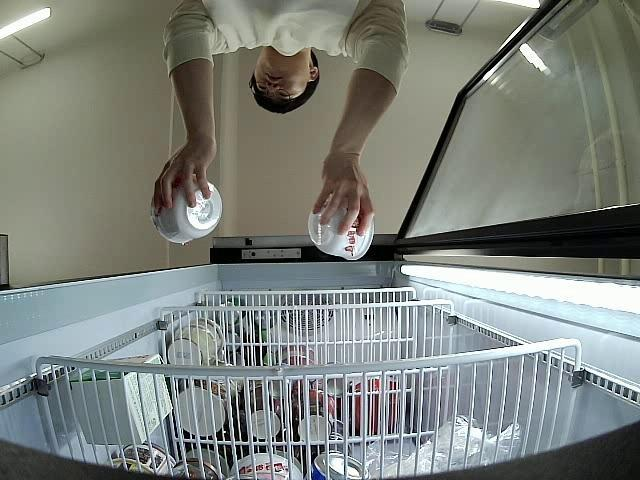09_yukGaeJang: (154, 174, 222, 247), (308, 196, 374, 265)
